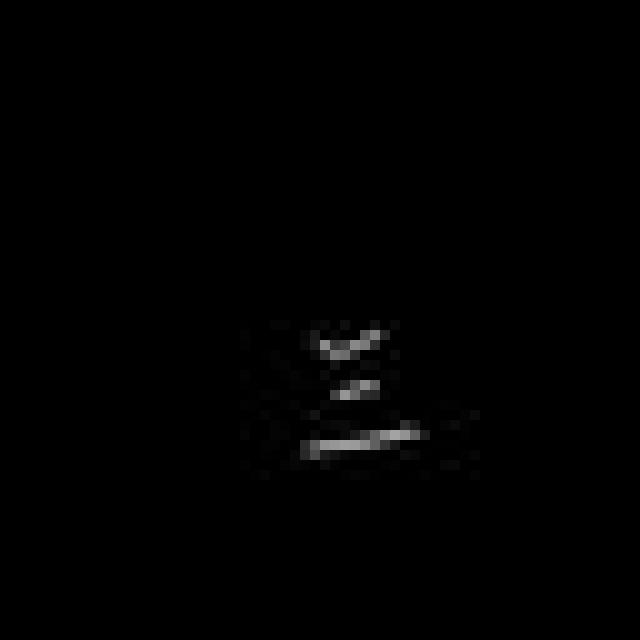3 -three-: (294, 310, 429, 480)
